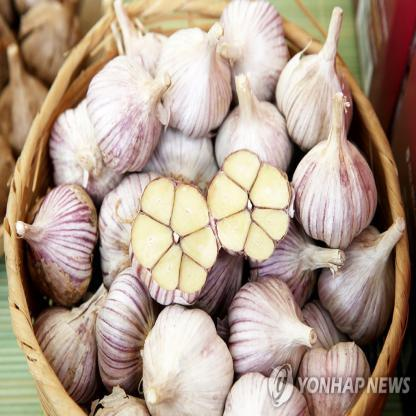garlic: (292, 103, 386, 257), (17, 186, 104, 310), (138, 302, 226, 416), (136, 177, 215, 298), (279, 16, 353, 139), (211, 148, 292, 256), (85, 72, 162, 170), (230, 282, 311, 371), (159, 32, 232, 126), (46, 294, 104, 406), (218, 76, 286, 170), (98, 265, 148, 384)
